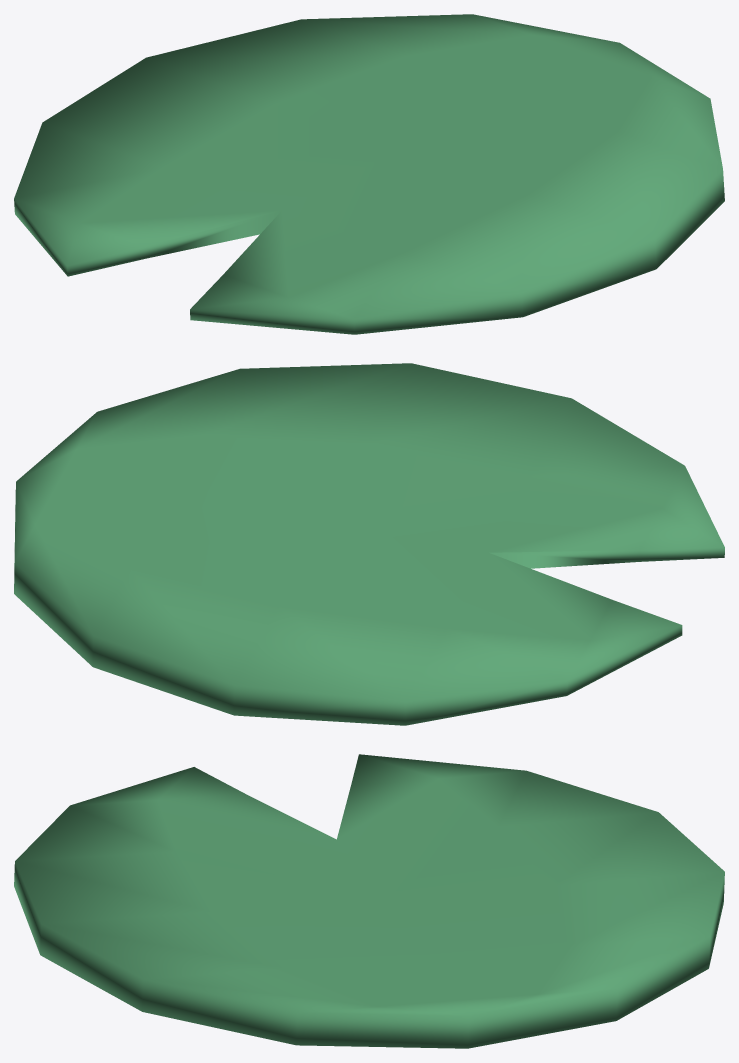
The model's file is lilypad3.fbx.
3 renders of one model, top to bottom at view 1: azimuth 30°, elevation 25°; view 2: azimuth 150°, elevation 25°; view 3: azimuth 270°, elevation 25°, orthographic.
Visible parts, largest first — view 1: lilypad3; view 2: lilypad3; view 3: lilypad3.
Boxes of the visible parts, x1,y1,x2,y2 form: lilypad3: [14, 14, 724, 334]; lilypad3: [14, 363, 724, 725]; lilypad3: [14, 754, 724, 1048].
Size of the model in its own units: 41.43 by 4.11 by 41.59.
